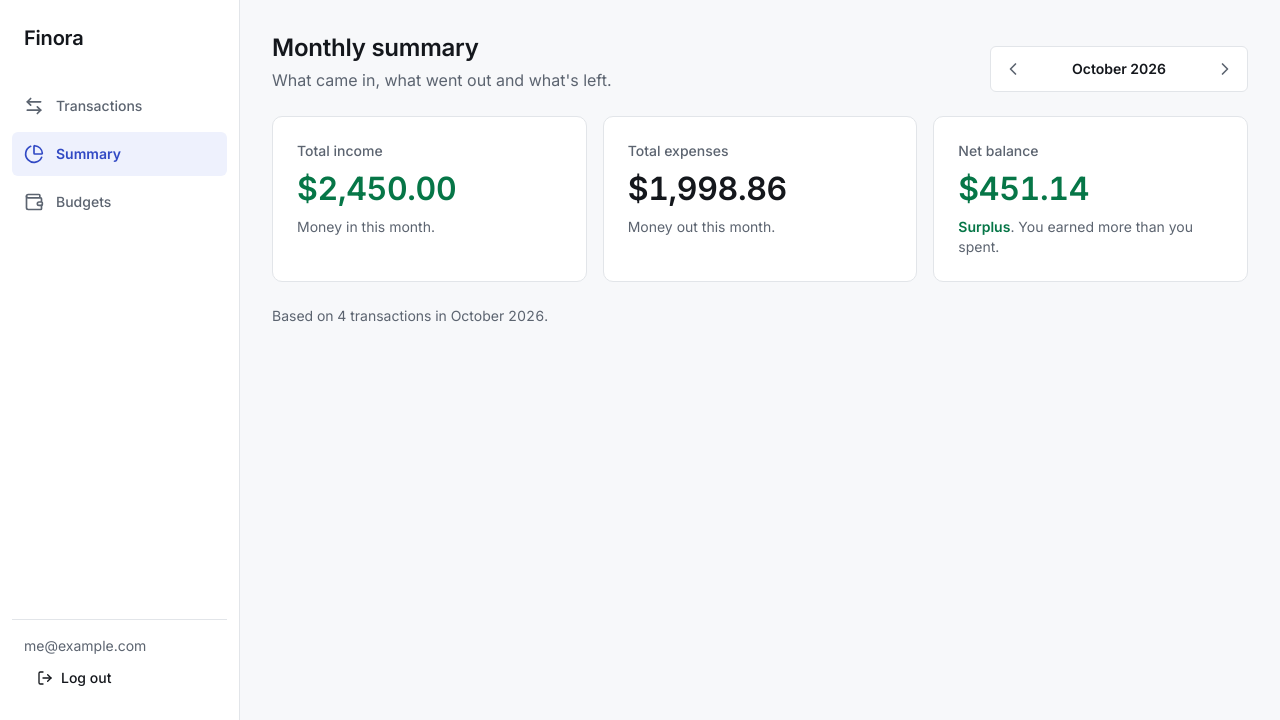
Test: month selector (US-28) › Previous shows the month before and puts it in the URL
The width and height of the screenshot is (1280, 720).
Expected: the text "Total income" is shown, [297,142,383,159]
Click the button named "Previous month". click: click(1013, 69)
box: [995,51,1031,87]
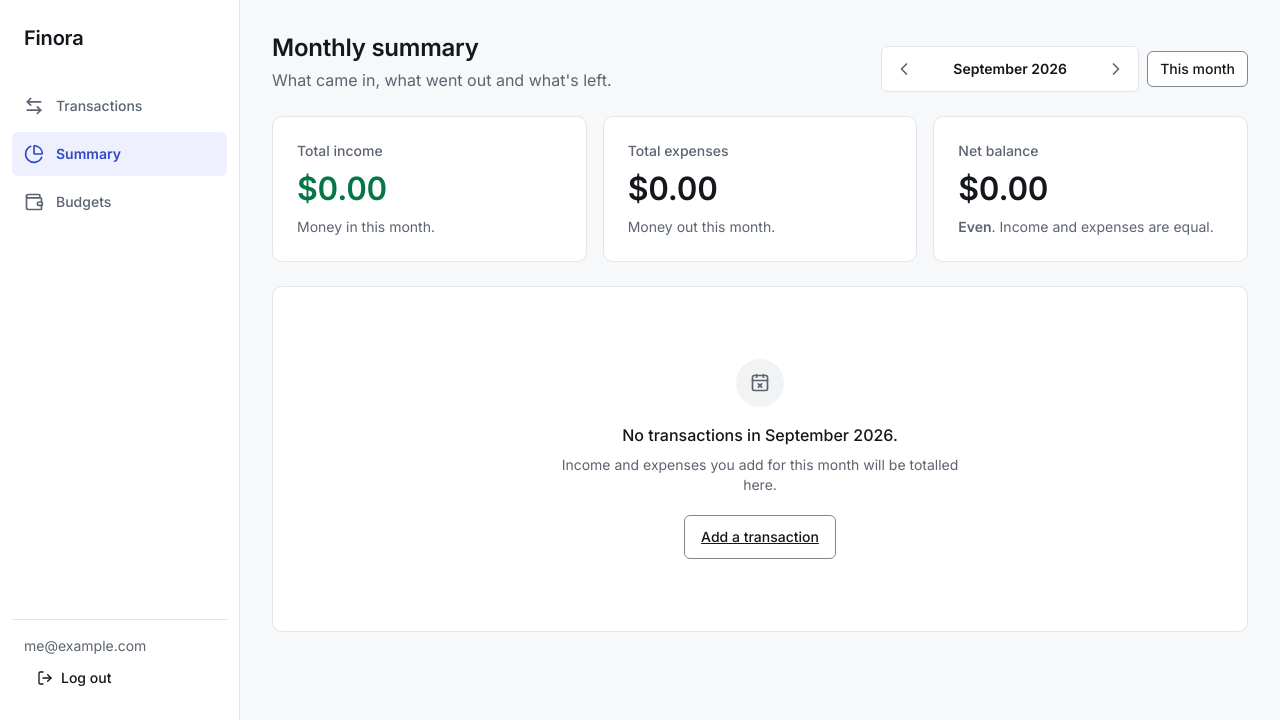
Now the text "September 2026" is shown, box [953,60,1067,77]
